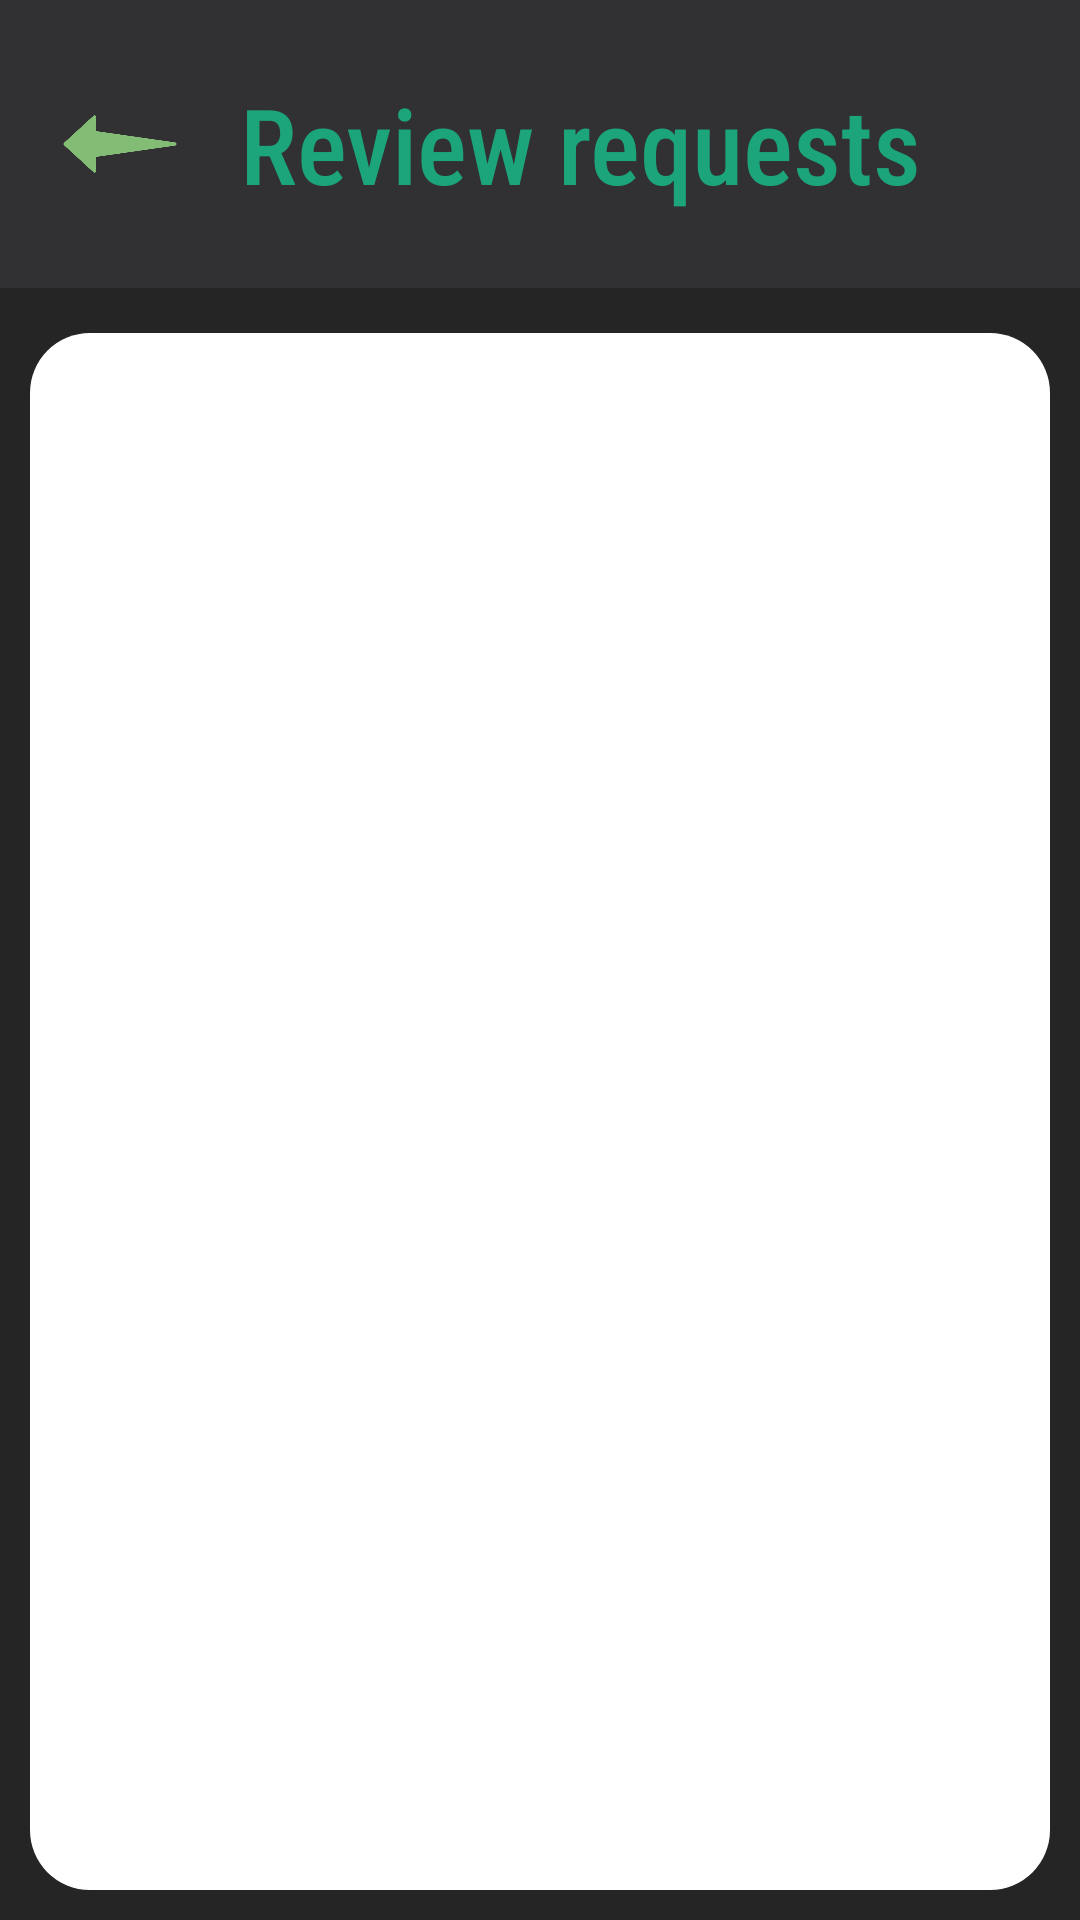

Where icons sit on this 1080px x 1920px app screen, as [left=x1, top=y1, right=x2, bottom=y2]:
left: [left=63, top=115, right=177, bottom=173]
